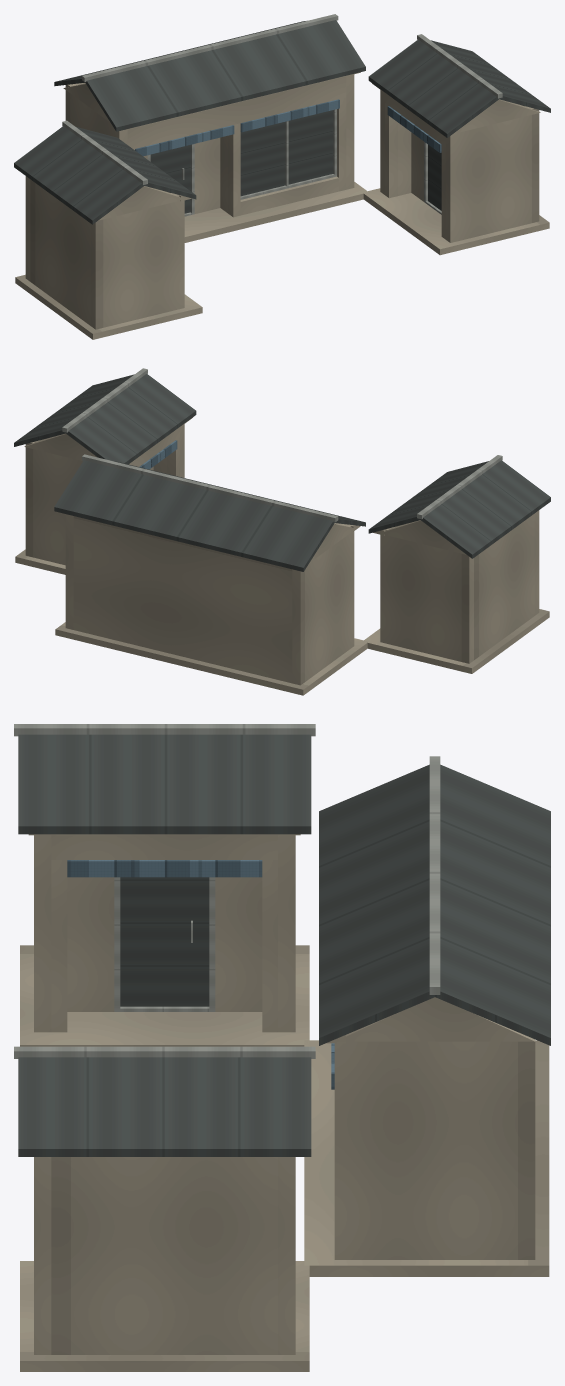
3 views of the same model, one above another, from view 1: azimuth 30°, elevation 25°; view 2: azimuth 150°, elevation 25°; view 3: azimuth 270°, elevation 25° (orthographic). The views are drawn at different scales.
Parts seen in each view (by area): view 1: valletta; view 2: valletta; view 3: valletta.
Boxes of the visible parts, x1,y1,x2,y2 form: valletta: (14, 14, 550, 339); valletta: (14, 368, 550, 695); valletta: (14, 724, 550, 1371).
Size of the model in its own units: 8.6 by 2.81 by 4.68.
Materials: 1 (1 with a texture image).
